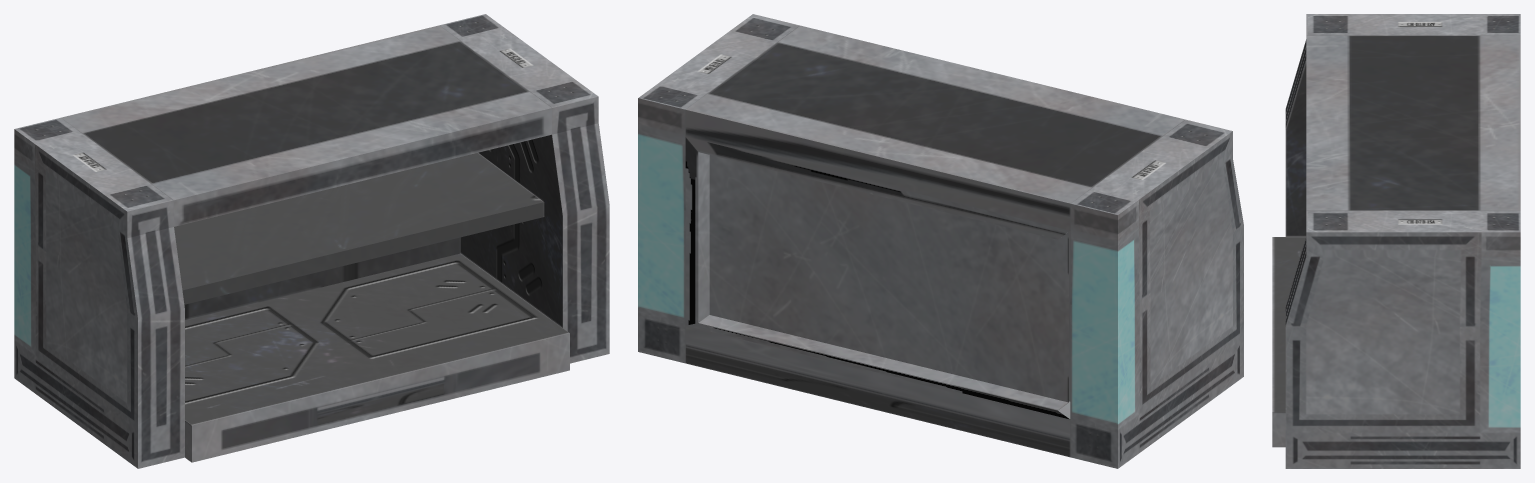
File: strct_WH_B_FloorShelf_LongShelf.fbx
The picture shows the model from 3 angles, left to right: view 1: azimuth 30°, elevation 25°; view 2: azimuth 150°, elevation 25°; view 3: azimuth 270°, elevation 25°; orthographic projection. The views are drawn at different scales.
Visible parts, largest first — view 1: Large_Shelf; view 2: Large_Shelf; view 3: Large_Shelf.
Part boxes in pixels (bbox=[...]): Large_Shelf: bbox=[14, 14, 609, 468]; Large_Shelf: bbox=[638, 14, 1243, 468]; Large_Shelf: bbox=[1272, 14, 1520, 468].
Bounding box in the file's own units: 507 × 256 × 243.
